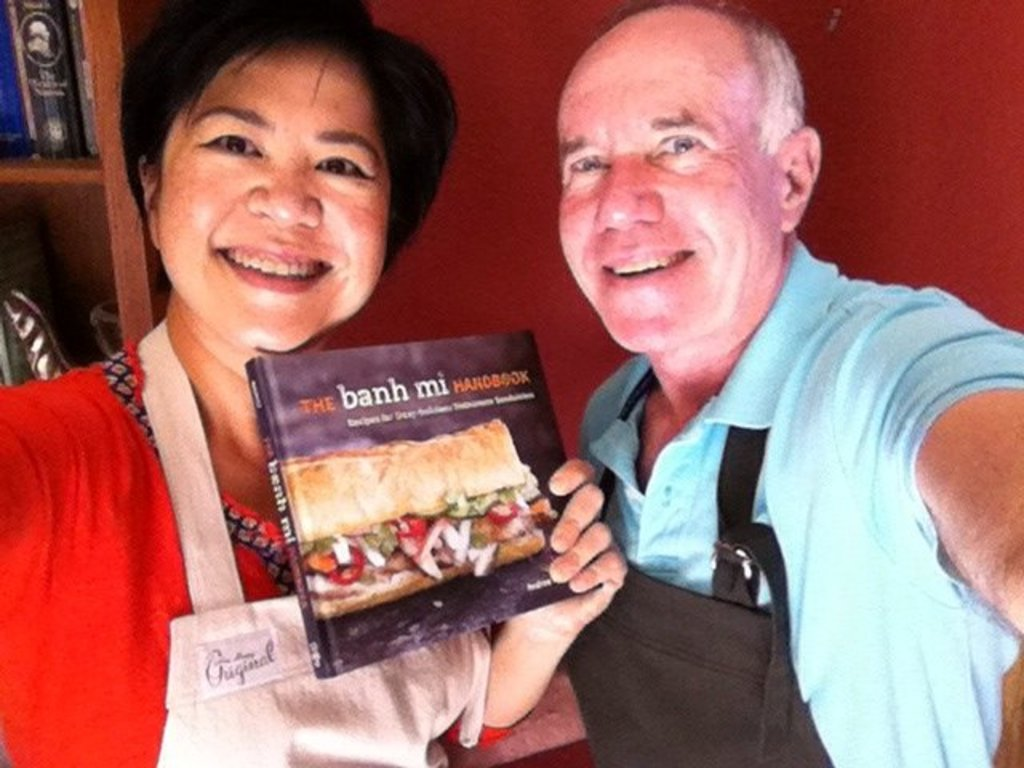sandwich: (278, 414, 557, 619)
